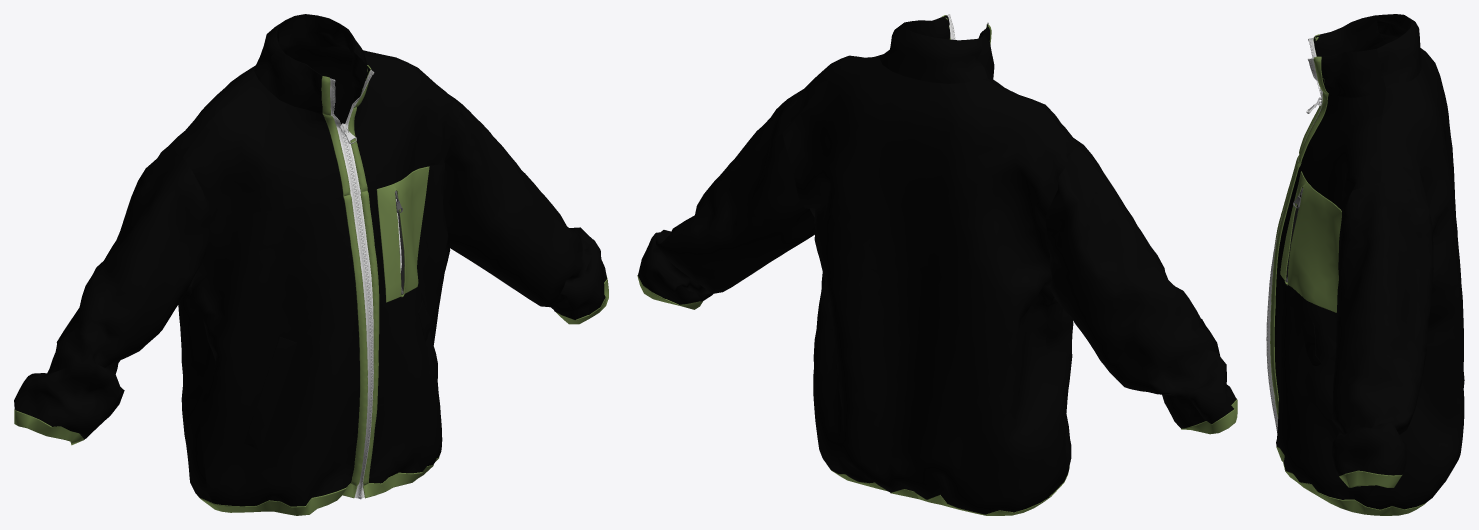
File: jacket.glb
3 views of the same model, side by side, from view 1: azimuth 30°, elevation 25°; view 2: azimuth 150°, elevation 25°; view 3: azimuth 270°, elevation 25° (orthographic). The views are drawn at different scales.
Parts seen in each view (by area): view 1: Pattern_5676594_Node_29, Pattern_5677567_Node_1, Pattern_5677566_Node_0, Pattern_5676597_Node_27, Pattern_5676593_Node_28, Pattern_5676596_Node_26, Pattern_5677133_Node_2, Pattern_6877485_Node_25, Pattern_6760092_Node_3, BindingPattern_6974116_Node_36, Pattern_6760096_Node_7, Pattern_6951127_Node_30 (+11 smaller); view 2: Pattern_5677133_Node_2, Pattern_5677567_Node_1, Pattern_5677566_Node_0, Pattern_6760093_Node_4, Pattern_5676594_Node_29, Pattern_6760097_Node_8; view 3: Pattern_5677566_Node_0, Pattern_5677133_Node_2, Pattern_5676597_Node_27, Pattern_5676596_Node_26, Pattern_6877485_Node_25, Pattern_6760094_Node_5, Pattern_6760093_Node_4, Pattern_6760095_Node_6, BindingPattern_6974176_Node_37, Pattern_6789882_Node_10, Pattern_6760096_Node_7, Pattern_6791616_Node_13 (+5 smaller).
Part boxes in pixels (x1,y1,x2,y2): Pattern_5676594_Node_29: (191,196,359,506); Pattern_5677567_Node_1: (14,152,210,439); Pattern_5677566_Node_0: (443,94,606,319); Pattern_5676597_Node_27: (367,165,450,483); Pattern_5676593_Node_28: (183,80,342,223); Pattern_5676596_Node_26: (354,56,460,190); Pattern_5677133_Node_2: (162,46,406,502); Pattern_6877485_Node_25: (376,166,429,302); Pattern_6760092_Node_3: (259,48,322,113); BindingPattern_6974116_Node_36: (343,195,367,486); Pattern_6760096_Node_7: (276,14,351,54); Pattern_6951127_Node_30: (244,337,296,450); Pattern_5677133_Node_2: (782,54,1074,514); Pattern_5677567_Node_1: (1045,145,1236,428); Pattern_5677566_Node_0: (638,89,815,304); Pattern_6760093_Node_4: (879,22,987,83); Pattern_5676594_Node_29: (1046,296,1073,479); Pattern_6760097_Node_8: (903,15,950,39); Pattern_5677566_Node_0: (1331,182,1433,475); Pattern_5677133_Node_2: (1366,37,1464,509); Pattern_5676597_Node_27: (1274,165,1370,506); Pattern_5676596_Node_26: (1301,89,1385,214); Pattern_6877485_Node_25: (1280,171,1341,312); Pattern_6760094_Node_5: (1321,48,1385,97); Pattern_6760093_Node_4: (1375,14,1421,88); Pattern_6760095_Node_6: (1314,16,1383,56); BindingPattern_6974176_Node_37: (1270,162,1300,418); Pattern_6789882_Node_10: (1339,470,1402,487); Pattern_6760096_Node_7: (1374,14,1411,44); Pattern_6791616_Node_13: (1276,446,1365,514).
Size of the model in its own units: 3.67 by 2.73 by 1.09.
23 materials, 20 textured.
